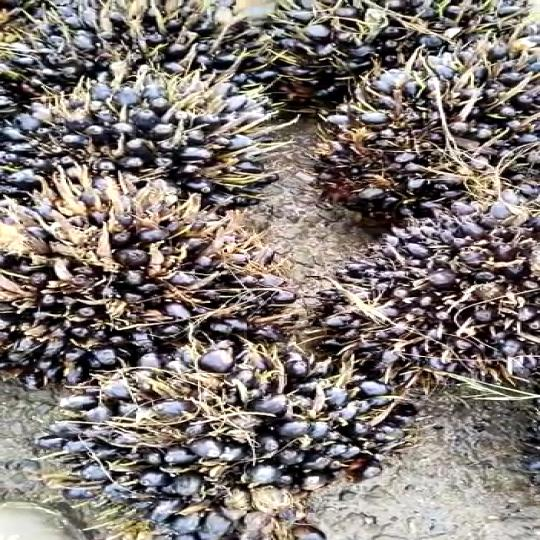mentah: (4, 338, 432, 508), (1, 0, 278, 235), (0, 179, 293, 390), (295, 31, 535, 243), (326, 179, 538, 408)
